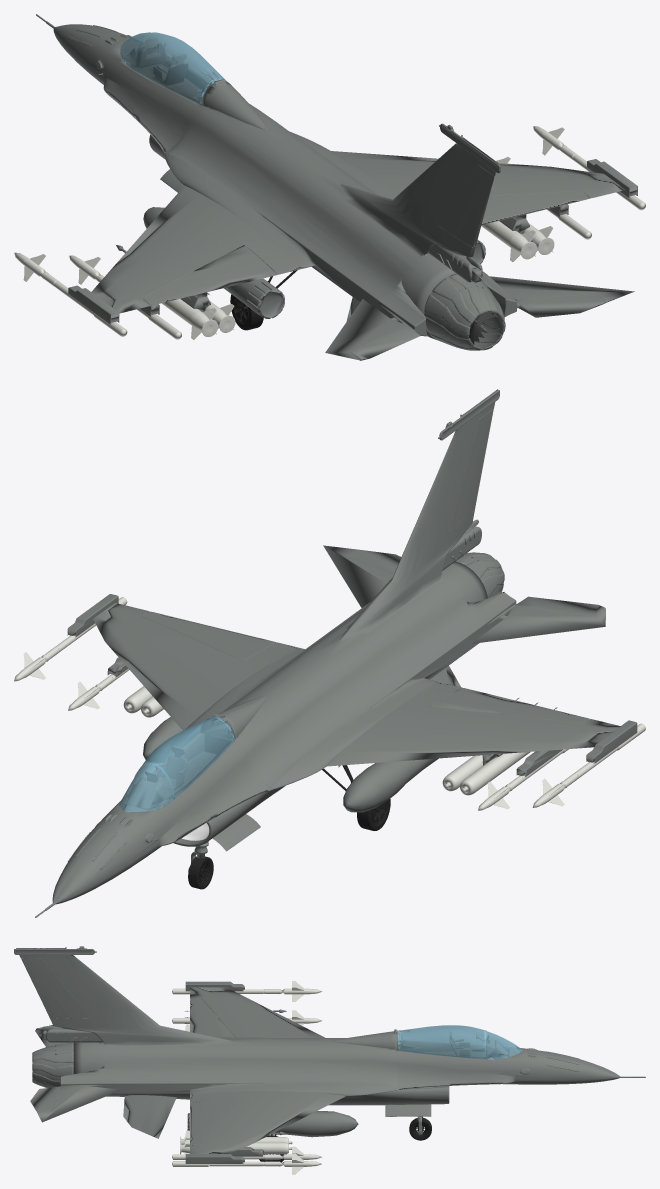
The model's file is f16_flight.glb.
3 views of the same model, one above another, from view 1: azimuth 30°, elevation 25°; view 2: azimuth 150°, elevation 25°; view 3: azimuth 270°, elevation 25° (orthographic). The views are drawn at different scales.
Parts seen in each view (by area): view 1: BodyAssy - Body_2-1_cc52, BodyAssy - Canopi-2, BodyAssy - Rear Stabilizer_Right-1, BodyAssy - Body_2-1_cc31, BodyAssy - Rear Stabilizer_Left-1, BodyAssy - Body_2-1_cc11, BodyAssy - Body_2-1_cc30, BodyAssy - Body_2-1_cc68, BodyAssy - Body_2-1_cc09, BodyAssy - Missile_1SLDPRT-1, BodyAssy - Missile_1SLDPRT-3, BodyAssy - Missile-3 (+9 smaller); view 2: BodyAssy - Body_2-1_cc52, BodyAssy - Canopi-2, BodyAssy - Rear Stabilizer_Left-1, BodyAssy - Body_2-1_cc68, BodyAssy - Rear Stabilizer_Right-1, BodyAssy - Body_2-1_cc31, BodyAssy - Body_2-1_cc30, BodyAssy - Body_2-1_cc11, BodyAssy - Missile_1SLDPRT-1, BodyAssy - Missile-3, BodyAssy - Missile-4, BodyAssy - Body_2-1_cc54 (+3 smaller); view 3: BodyAssy - Body_2-1_cc52, BodyAssy - Canopi-2, BodyAssy - Body_2-1_cc11, BodyAssy - Rear Stabilizer_Right-1, BodyAssy - Body_2-1_cc59, BodyAssy - Body_2-1_cc30, BodyAssy - Body_2-1_cc31, BodyAssy - Missile-4, BodyAssy - Missile-3, BodyAssy - Body_2-1_cc62, BodyAssy - Body_2-1_cc09, BodyAssy - Body_2-1_cc56 (+6 smaller).
Boxes of the visible parts, bbox=[...] form: BodyAssy - Body_2-1_cc52: bbox=[36, 14, 625, 339]; BodyAssy - Canopi-2: bbox=[120, 32, 229, 104]; BodyAssy - Rear Stabilizer_Right-1: bbox=[490, 276, 634, 317]; BodyAssy - Body_2-1_cc31: bbox=[143, 245, 277, 305]; BodyAssy - Rear Stabilizer_Left-1: bbox=[325, 299, 420, 360]; BodyAssy - Body_2-1_cc11: bbox=[439, 165, 494, 246]; BodyAssy - Body_2-1_cc30: bbox=[481, 191, 589, 224]; BodyAssy - Body_2-1_cc68: bbox=[143, 207, 284, 318]; BodyAssy - Body_2-1_cc09: bbox=[424, 277, 504, 349]; BodyAssy - Missile_1SLDPRT-1: bbox=[162, 299, 218, 339]; BodyAssy - Missile_1SLDPRT-3: bbox=[481, 221, 536, 261]; BodyAssy - Missile-3: bbox=[14, 252, 127, 336]; BodyAssy - Body_2-1_cc52: bbox=[35, 389, 620, 917]; BodyAssy - Canopi-2: bbox=[119, 715, 234, 812]; BodyAssy - Rear Stabilizer_Left-1: bbox=[471, 596, 605, 643]; BodyAssy - Body_2-1_cc68: bbox=[343, 758, 438, 812]; BodyAssy - Rear Stabilizer_Right-1: bbox=[323, 545, 401, 607]; BodyAssy - Body_2-1_cc31: bbox=[430, 688, 589, 723]; BodyAssy - Body_2-1_cc30: bbox=[142, 611, 276, 661]; BodyAssy - Body_2-1_cc11: bbox=[448, 408, 493, 531]; BodyAssy - Missile_1SLDPRT-1: bbox=[460, 752, 530, 795]; BodyAssy - Missile-3: bbox=[532, 723, 645, 807]; BodyAssy - Missile-4: bbox=[14, 597, 127, 681]; BodyAssy - Body_2-1_cc54: bbox=[586, 720, 637, 763]; BodyAssy - Body_2-1_cc52: bbox=[14, 946, 645, 1153]; BodyAssy - Canopi-2: bbox=[396, 1025, 522, 1059]; BodyAssy - Body_2-1_cc11: bbox=[21, 958, 89, 1018]; BodyAssy - Rear Stabilizer_Right-1: bbox=[30, 1085, 120, 1122]; BodyAssy - Body_2-1_cc59: bbox=[187, 1111, 358, 1137]; BodyAssy - Body_2-1_cc30: bbox=[190, 1099, 235, 1145]; BodyAssy - Body_2-1_cc31: bbox=[190, 998, 235, 1037]; BodyAssy - Missile-4: bbox=[172, 1153, 321, 1174]; BodyAssy - Missile-3: bbox=[172, 981, 321, 1001]; BodyAssy - Body_2-1_cc62: bbox=[385, 1104, 431, 1116]; BodyAssy - Body_2-1_cc09: bbox=[32, 1042, 73, 1087]; BodyAssy - Body_2-1_cc56: bbox=[185, 1154, 244, 1163].
Bounding box in the file's own units: 10.11 × 5.16 × 15.06.
